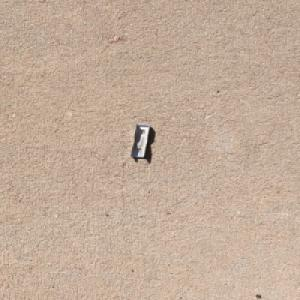ClampPart: (128, 123, 151, 158)
